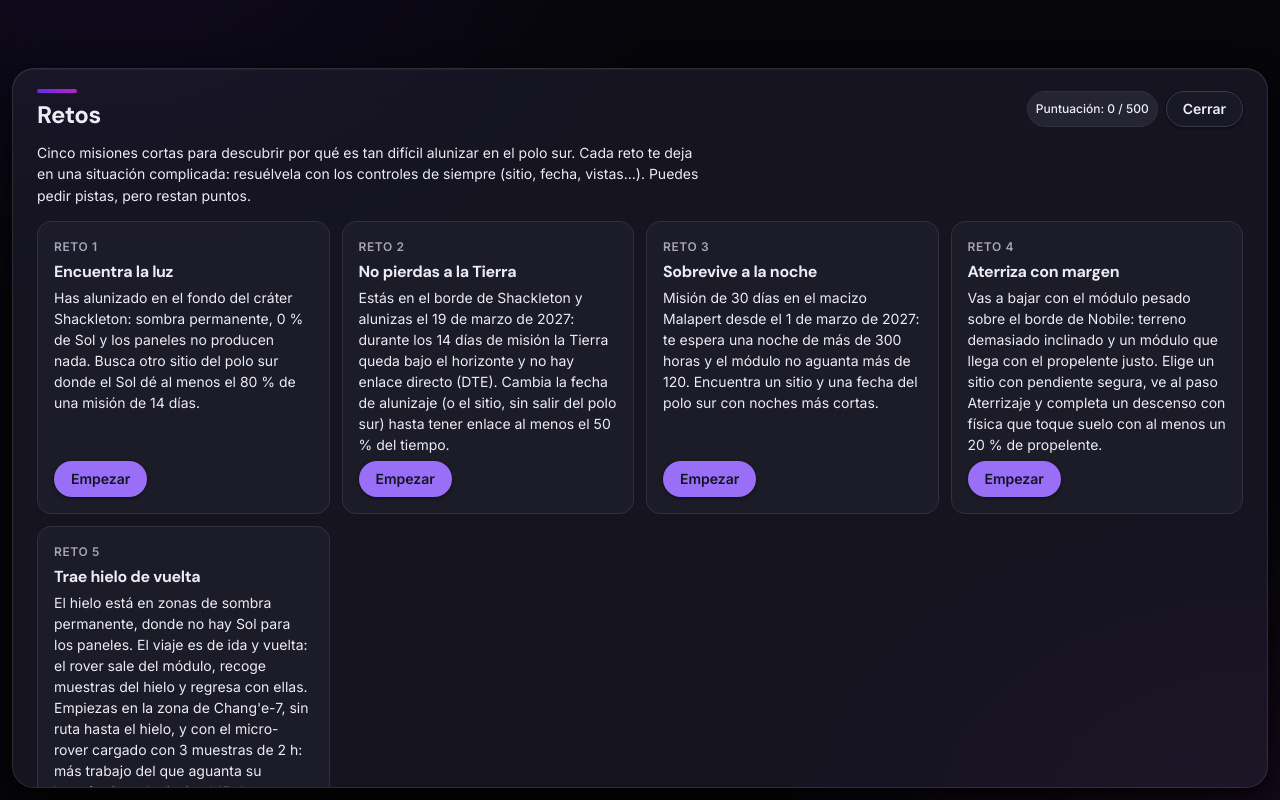
Test case: playing a challenge › starting one applies its setup and shows the checklist
Step 1. Click the button "Empezar" below "Reto 1" → (101, 479), box x1=54 y1=461 x2=147 y2=497
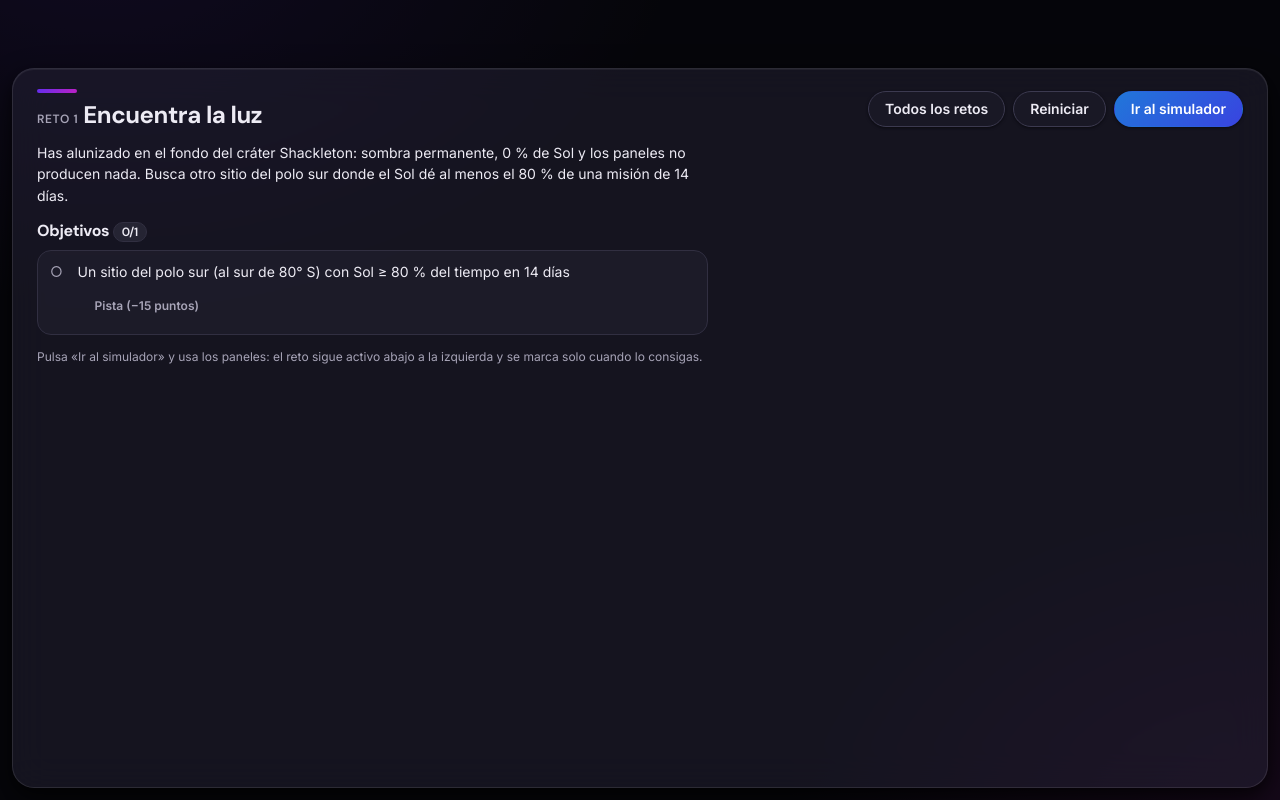
Expected: the heading "Reto 1 Encuentra la luz" is shown, x1=37 y1=89 x2=262 y2=130
Expected: the heading "Objetivos 0/1" is shown, x1=37 y1=220 x2=147 y2=242
Expected: the text "Sol ≥ 80 % del tiempo" is shown, x1=78 y1=263 x2=570 y2=280
